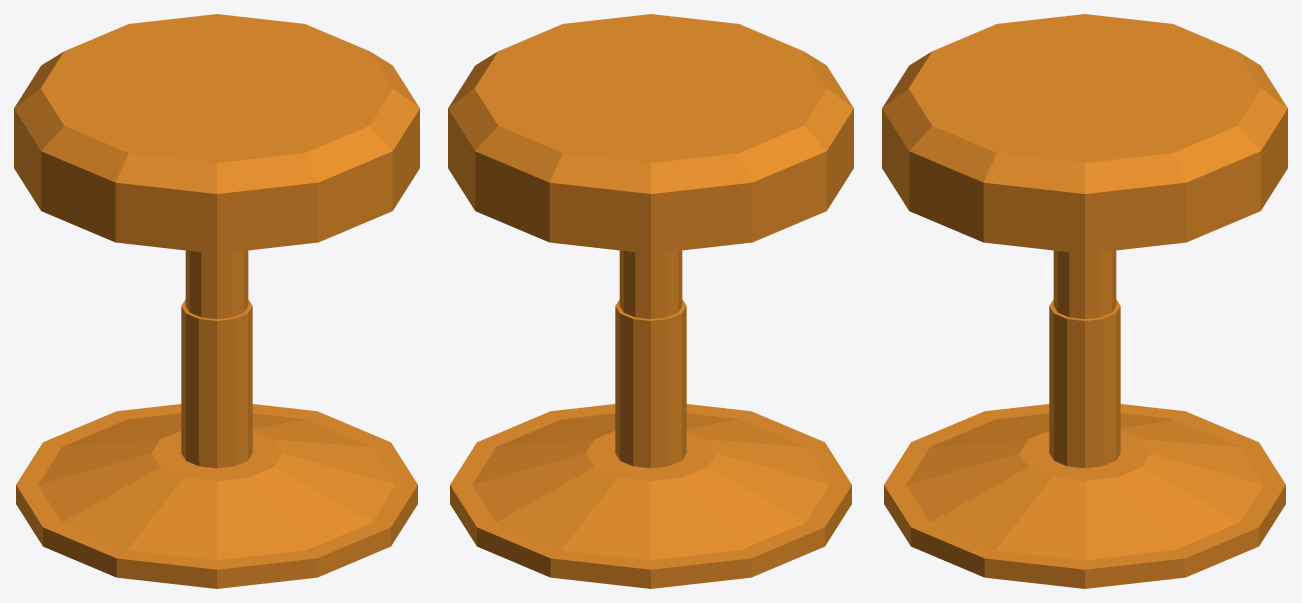
The model's file is Stol.fbx.
3 renders of one model, left to right at view 1: azimuth 30°, elevation 25°; view 2: azimuth 150°, elevation 25°; view 3: azimuth 270°, elevation 25°, orthographic.
Parts seen in each view (by area): view 1: Stol; view 2: Stol; view 3: Stol.
Boxes of the visible parts, x1,y1,x2,y2 form: Stol: (14,14,419,588); Stol: (448,14,853,588); Stol: (882,14,1287,588).
Bounding box in the file's own units: 21.37 × 24.13 × 21.37.
